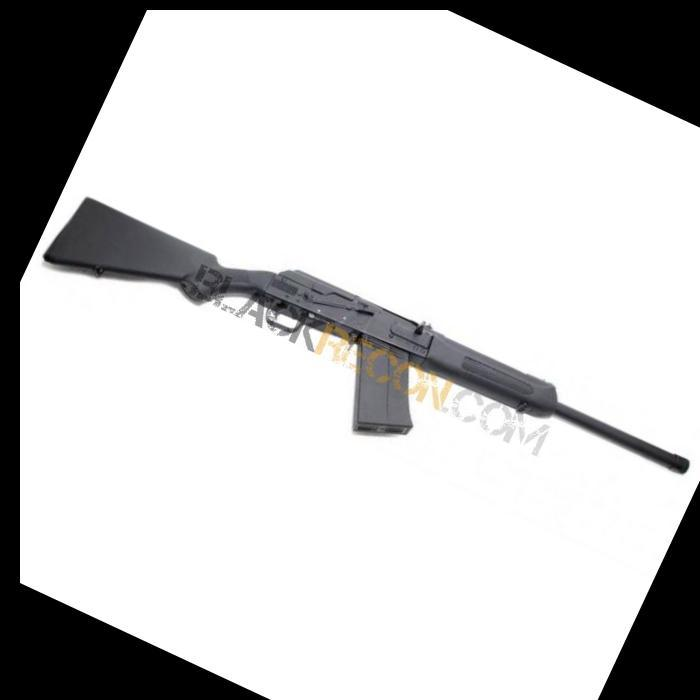larga: (42, 197, 694, 477)
